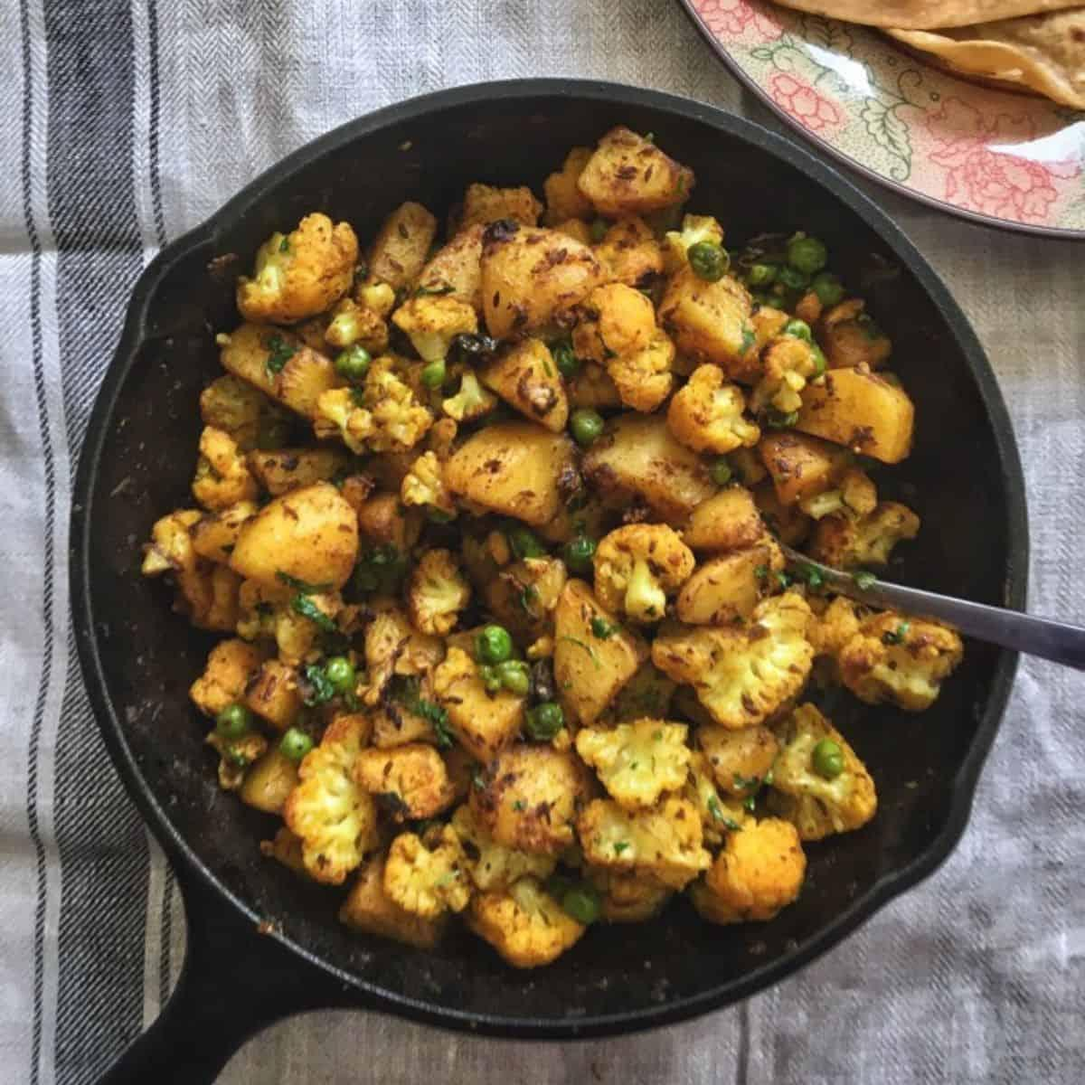aloo gobhi: (128, 119, 981, 969)
